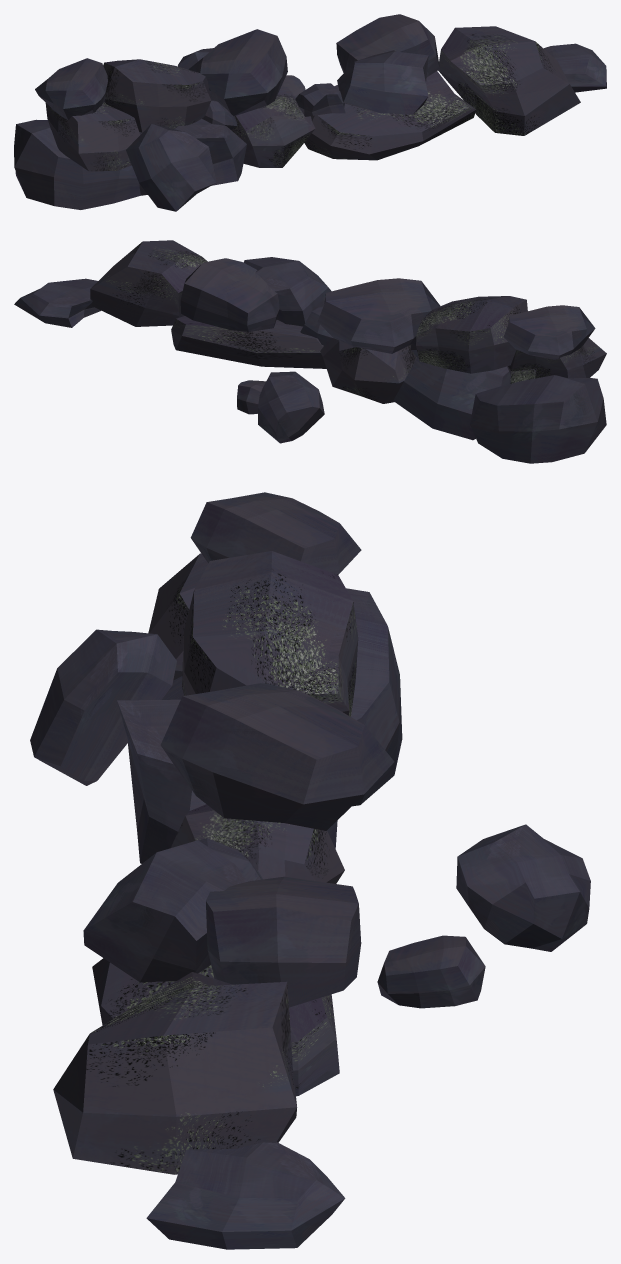
The model's file is Stonewall02.fbx.
3 renders of one model, top to bottom at view 1: azimuth 30°, elevation 25°; view 2: azimuth 150°, elevation 25°; view 3: azimuth 270°, elevation 25°, orthographic. The views are drawn at different scales.
Parts seen in each view (by area): view 1: stone_wall_02; view 2: stone_wall_02; view 3: stone_wall_02.
Part boxes in pixels (x1,y1,x2,y2): stone_wall_02: (14, 14, 606, 211); stone_wall_02: (14, 240, 606, 463); stone_wall_02: (30, 492, 590, 1249).
Size of the model in its own units: 4.59 by 0.9802 by 1.92.
Materials: 2 (2 with a texture image).
